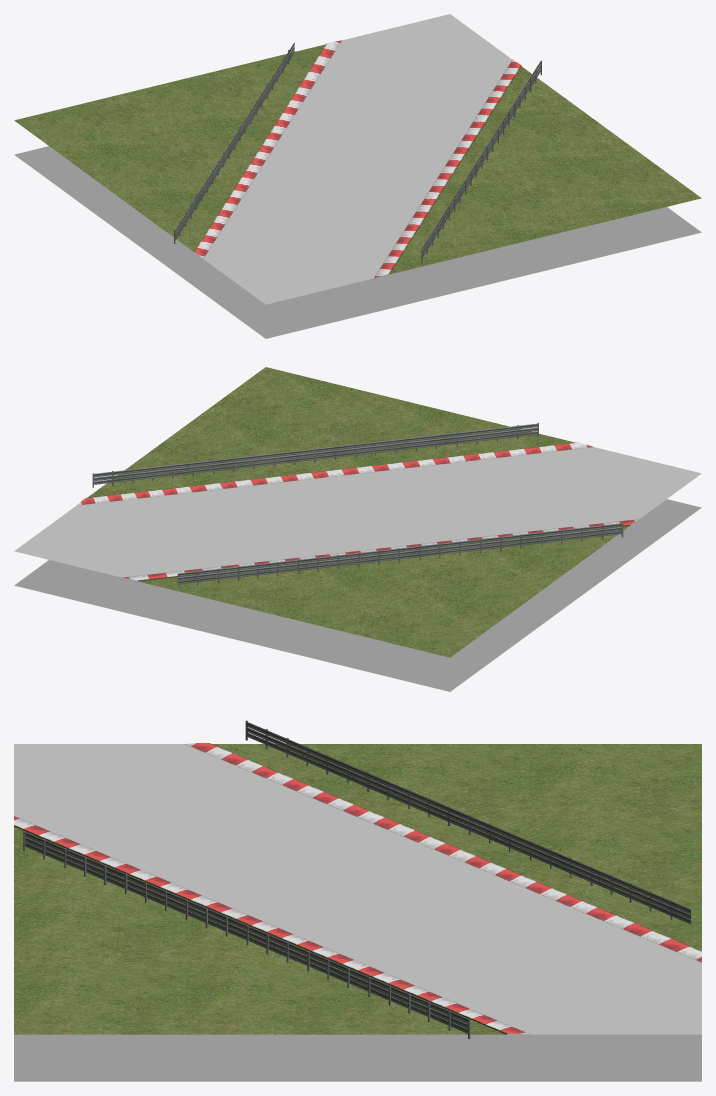
File: Track_Straight_45Degree_Mobile.fbx
The picture shows the model from 3 angles, top to bottom: view 1: azimuth 30°, elevation 25°; view 2: azimuth 150°, elevation 25°; view 3: azimuth 270°, elevation 25°; orthographic projection. The views are drawn at different scales.
Visible parts, largest first — view 1: Grass, Road, Snap_Plane_Invisible_03, Snap_Plane_Invisible_01, Snap_Plane_Invisible_02, Curb_A, Curb_B, Rail_B, Rail_A; view 2: Grass, Road, Snap_Plane_Invisible_02, Snap_Plane_Invisible_04, Rail_A, Rail_B, Snap_Plane_Invisible_03, Curb_B, Curb_A; view 3: Grass, Road, Snap_Plane_Invisible_04, Snap_Plane_Invisible_01, Rail_B, Rail_A, Curb_A, Curb_B.
Boxes of the visible parts, bbox=[...] form: Grass: bbox=[14, 44, 701, 274]; Road: bbox=[204, 14, 512, 304]; Snap_Plane_Invisible_03: bbox=[140, 238, 483, 338]; Snap_Plane_Invisible_01: bbox=[449, 207, 701, 285]; Snap_Plane_Invisible_02: bbox=[14, 146, 173, 246]; Curb_A: bbox=[194, 40, 341, 258]; Curb_B: bbox=[374, 59, 521, 278]; Rail_B: bbox=[421, 60, 541, 263]; Rail_A: bbox=[174, 42, 294, 243]; Grass: bbox=[87, 367, 629, 657]; Road: bbox=[14, 447, 701, 577]; Snap_Plane_Invisible_02: bbox=[232, 591, 575, 691]; Snap_Plane_Invisible_04: bbox=[14, 560, 266, 638]; Rail_A: bbox=[177, 523, 623, 585]; Rail_B: bbox=[92, 422, 538, 487]; Snap_Plane_Invisible_03: bbox=[541, 499, 701, 599]; Curb_B: bbox=[77, 442, 593, 505]; Curb_A: bbox=[123, 519, 638, 581]; Grass: bbox=[14, 744, 701, 1034]; Road: bbox=[14, 744, 701, 1034]; Snap_Plane_Invisible_04: bbox=[358, 1033, 701, 1081]; Snap_Plane_Invisible_01: bbox=[14, 1034, 357, 1081]; Rail_B: bbox=[23, 831, 470, 1038]; Rail_A: bbox=[245, 720, 690, 924]; Curb_A: bbox=[185, 743, 701, 962]; Curb_B: bbox=[14, 816, 530, 1034].
Bounding box in the file's own units: 41.2 × 4.24 × 40.
